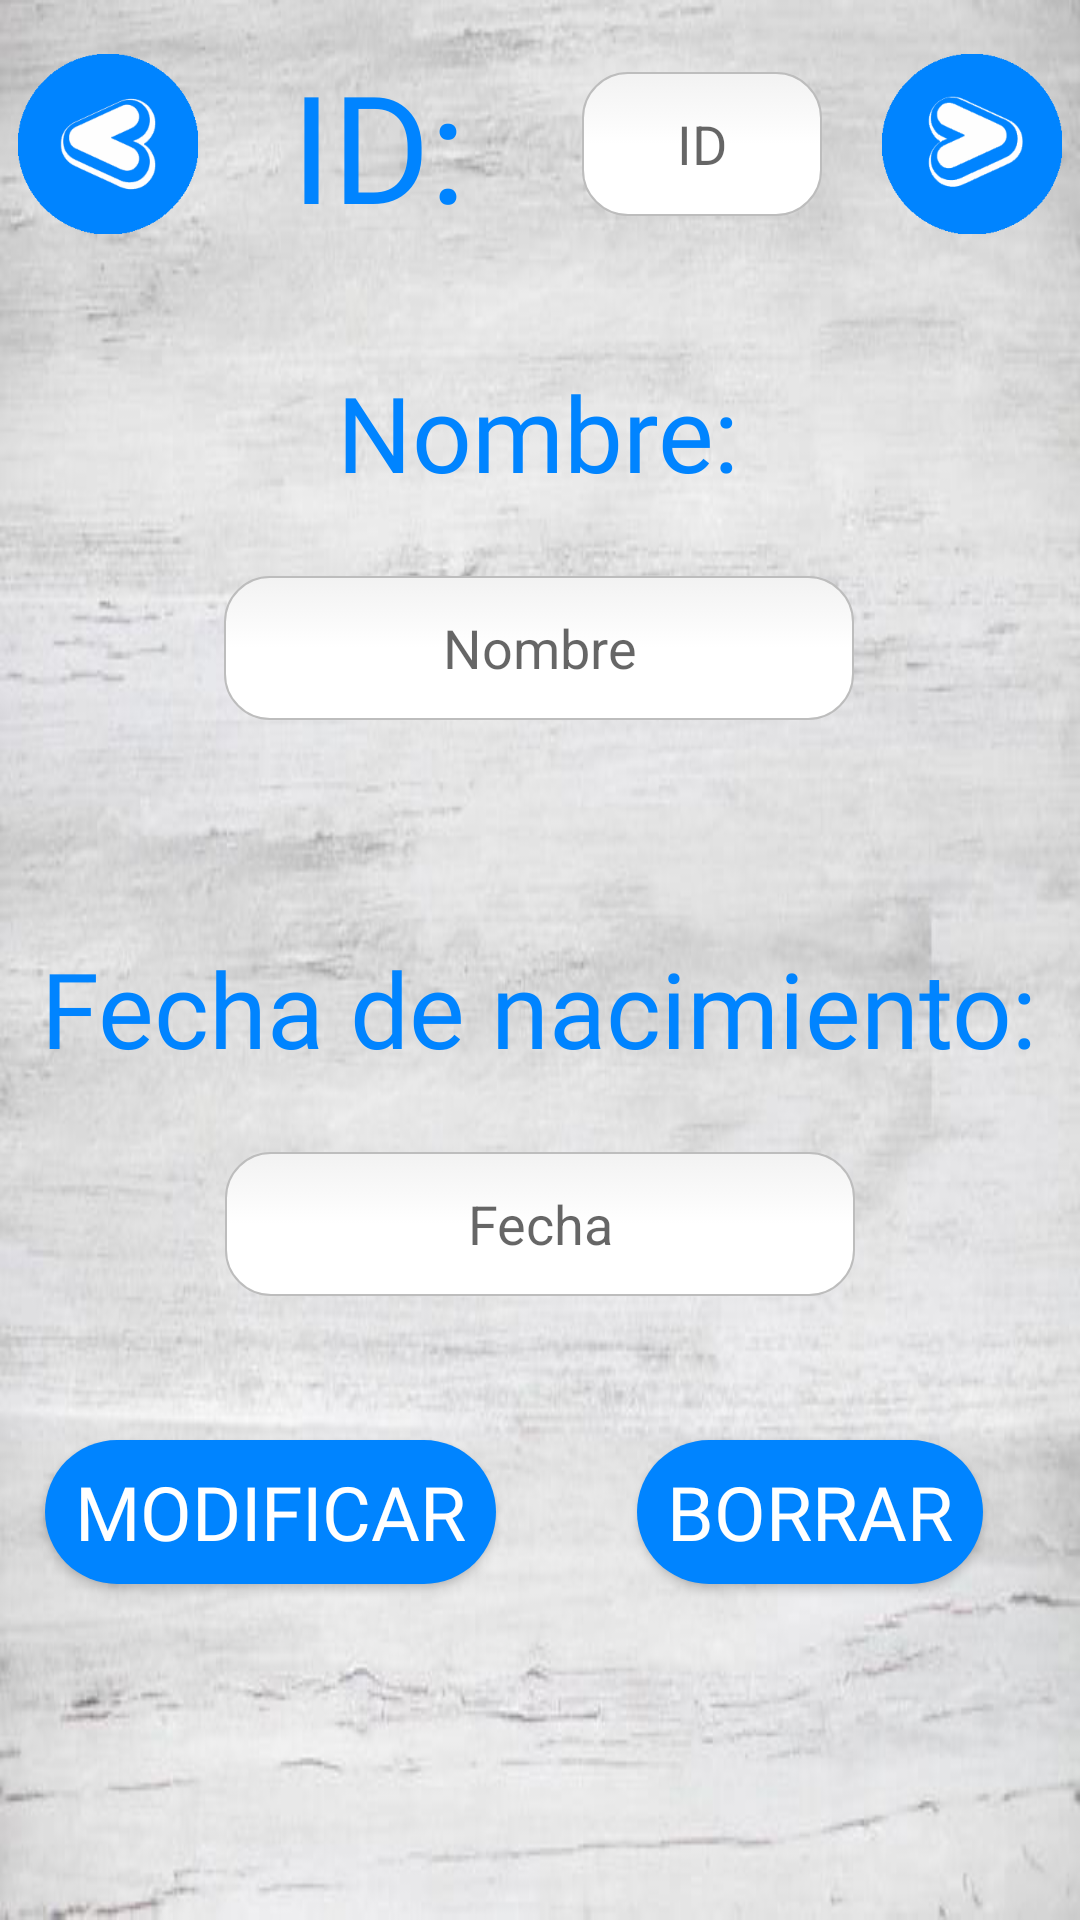

Screen size 1080 × 1920. Icon name, then its center in pixels as point (x, y):
next: point (972, 144)
previous: point (108, 144)
